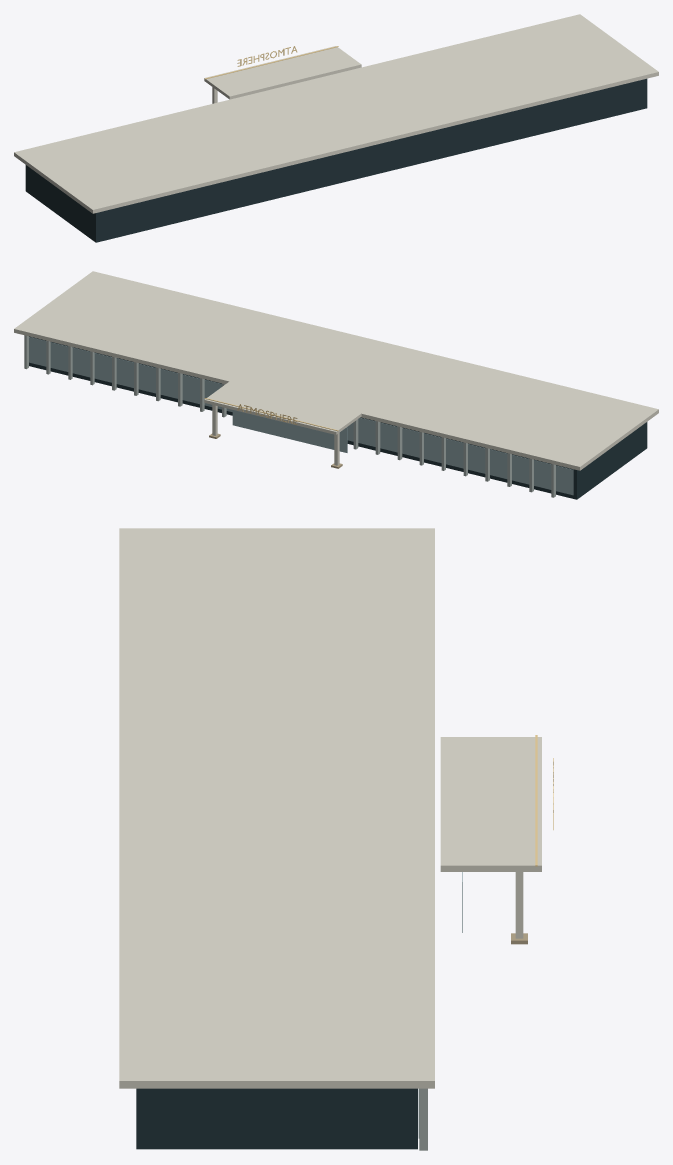
The model's file is KOL_T1_ATMOSPHERE__Podium.fbx.
The picture shows the model from 3 angles, top to bottom: view 1: azimuth 30°, elevation 25°; view 2: azimuth 150°, elevation 25°; view 3: azimuth 270°, elevation 25°; orthographic projection. The views are drawn at different scales.
Parts seen in each view (by area): view 1: KOL_T1_ATMOSPHERE__Podium__KOL_T1_Pearl, KOL_T1_ATMOSPHERE__Podium__KOL_T1_Graphite, KOL_T1_ATMOSPHERE__Podium__KOL_T1_Accent; view 2: KOL_T1_ATMOSPHERE__Podium__KOL_T1_Pearl, KOL_T1_ATMOSPHERE__Podium__KOL_T1_GlassLight, KOL_T1_ATMOSPHERE__Podium__KOL_T1_Graphite, KOL_T1_ATMOSPHERE__Podium__KOL_T1_Silver, KOL_T1_ATMOSPHERE__Podium__KOL_T1_Accent; view 3: KOL_T1_ATMOSPHERE__Podium__KOL_T1_Pearl, KOL_T1_ATMOSPHERE__Podium__KOL_T1_Graphite.
Boxes of the visible parts, x1,y1,x2,y2 form: KOL_T1_ATMOSPHERE__Podium__KOL_T1_Pearl: (14, 14, 658, 213); KOL_T1_ATMOSPHERE__Podium__KOL_T1_Graphite: (25, 78, 647, 242); KOL_T1_ATMOSPHERE__Podium__KOL_T1_Accent: (204, 46, 338, 79); KOL_T1_ATMOSPHERE__Podium__KOL_T1_Pearl: (14, 271, 658, 470); KOL_T1_ATMOSPHERE__Podium__KOL_T1_GlassLight: (29, 337, 573, 495); KOL_T1_ATMOSPHERE__Podium__KOL_T1_Graphite: (29, 336, 647, 499); KOL_T1_ATMOSPHERE__Podium__KOL_T1_Silver: (24, 335, 555, 497); KOL_T1_ATMOSPHERE__Podium__KOL_T1_Accent: (204, 398, 338, 431); KOL_T1_ATMOSPHERE__Podium__KOL_T1_Pearl: (119, 528, 541, 1088); KOL_T1_ATMOSPHERE__Podium__KOL_T1_Graphite: (136, 1088, 417, 1149).
Bounding box in the file's own units: 232 × 18.76 × 77.05.
